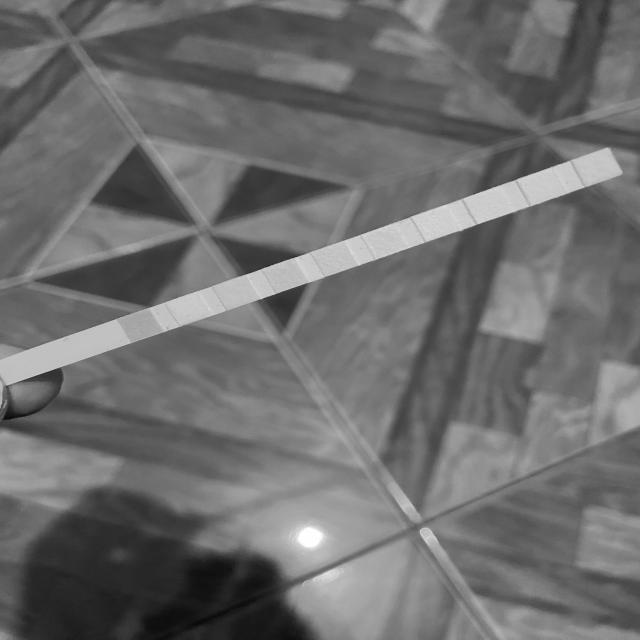Bilirubin: (172, 300, 205, 318)
Blood: (321, 249, 349, 270)
Glucose: (124, 316, 156, 334)
Ketone: (220, 283, 252, 301)
Leukocytes: (580, 157, 614, 178)
Nitrite: (525, 176, 558, 196)
Protein: (422, 212, 450, 234)
SpGravity: (270, 266, 300, 284)
Urobilinogen: (474, 194, 503, 217)
background: (0, 0, 640, 640)
pH: (370, 231, 399, 251)
strip: (3, 148, 625, 384)
